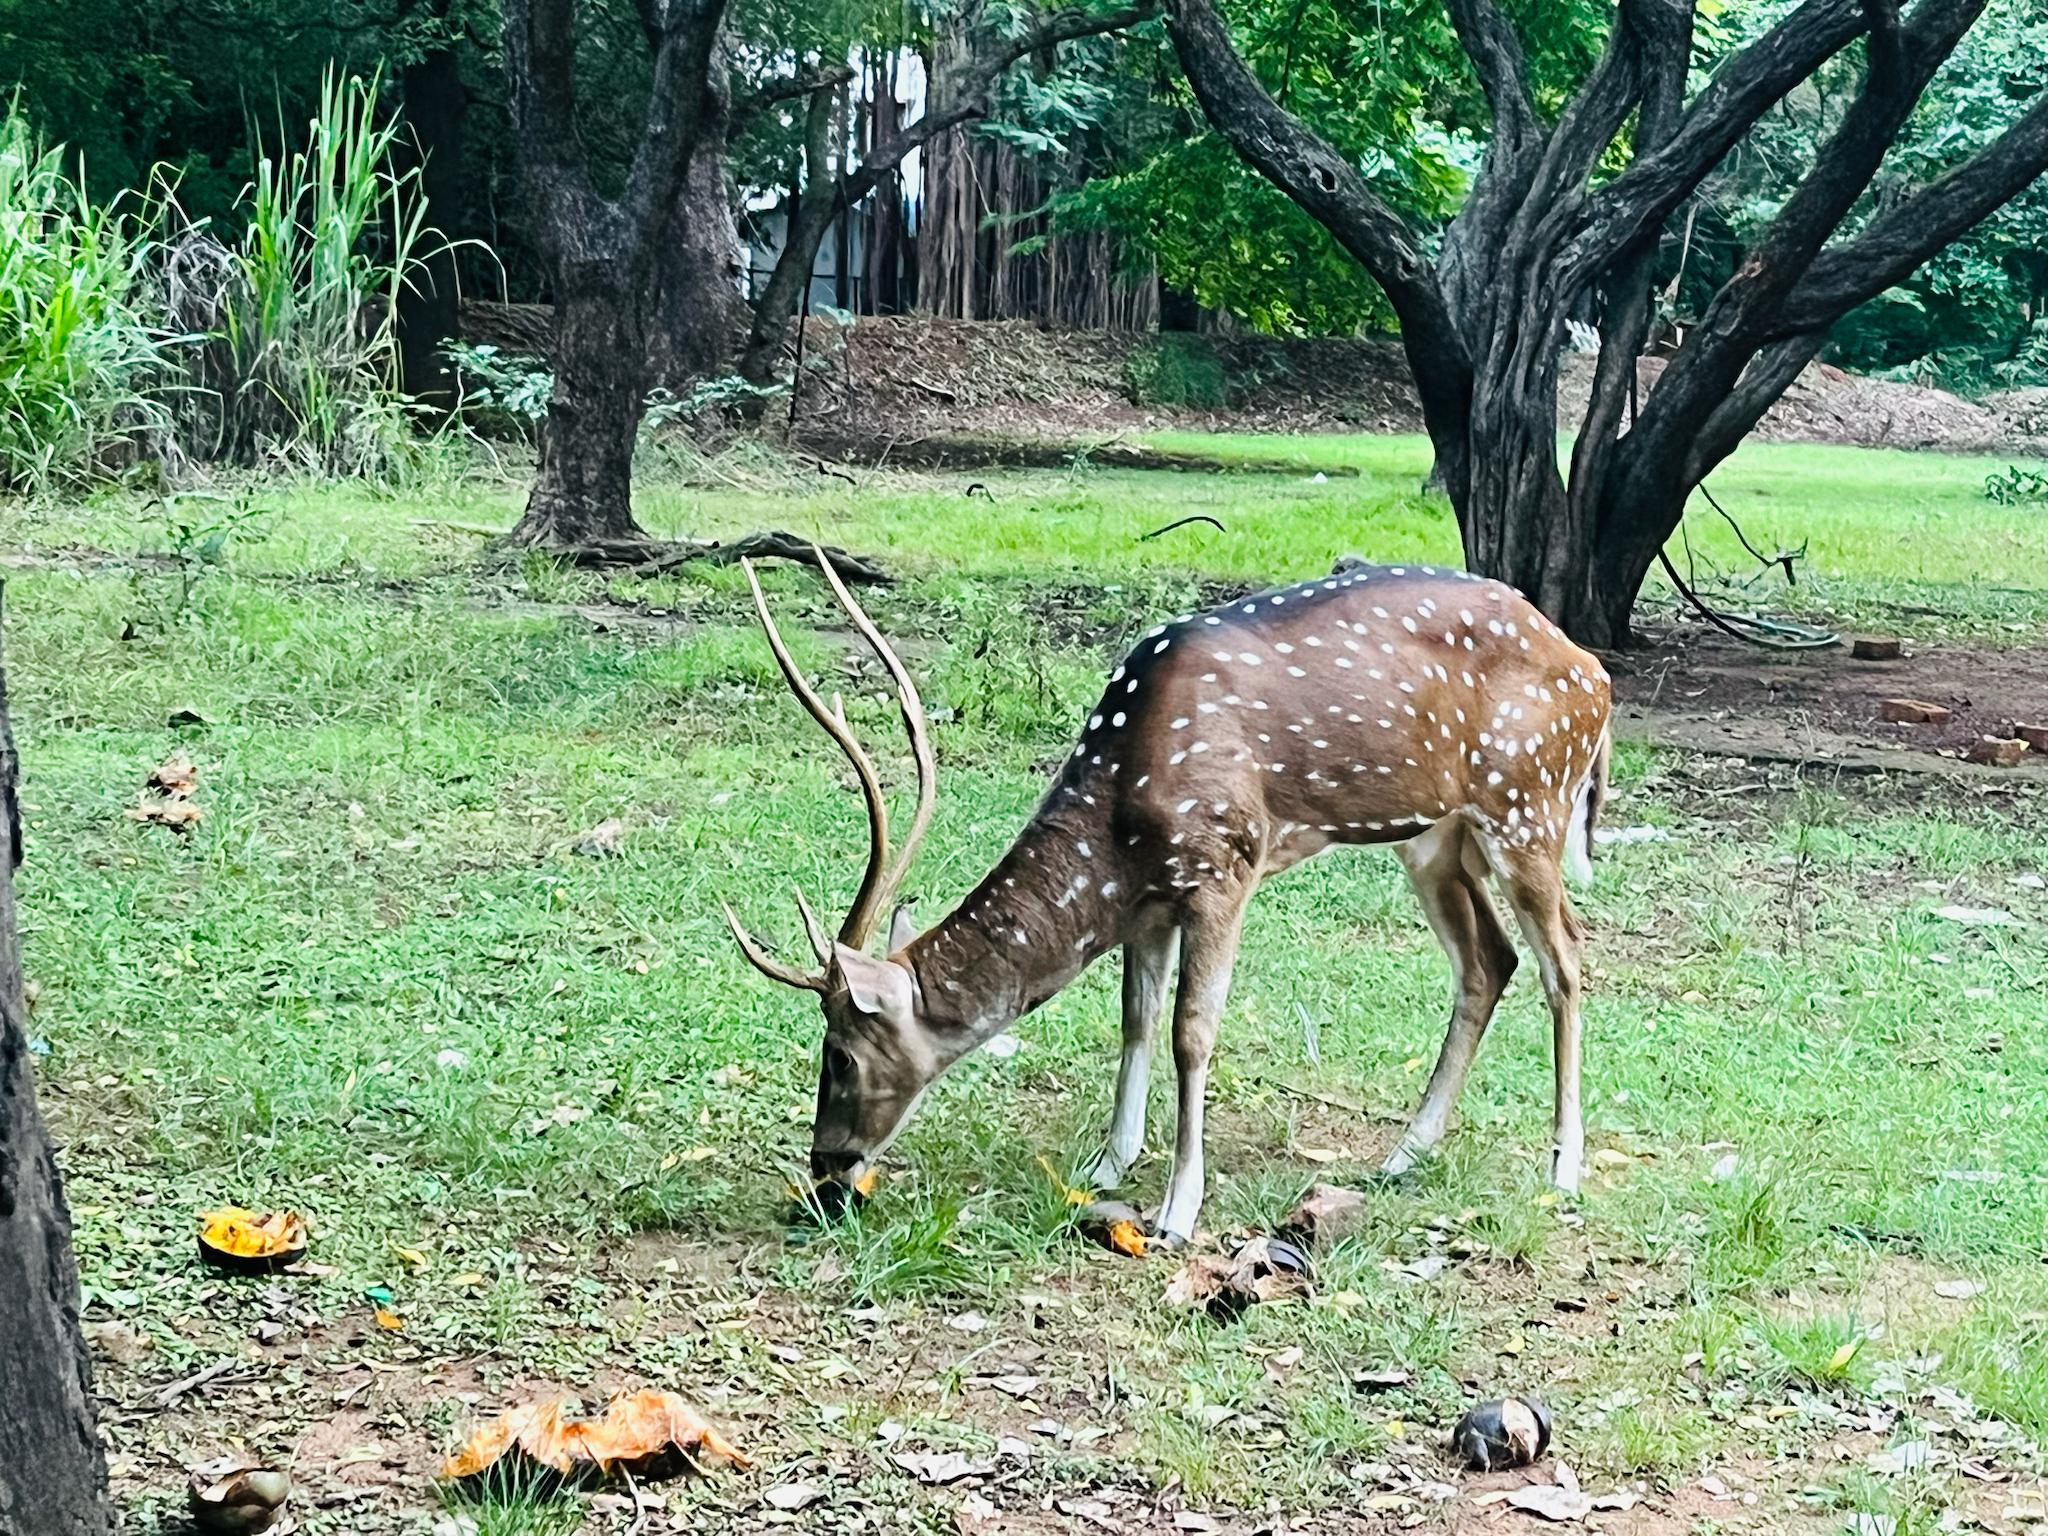Deer: (722, 544, 1609, 1244)
